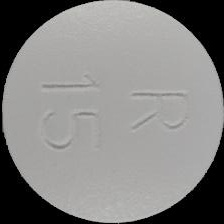55111-167: (0, 0, 224, 224)
